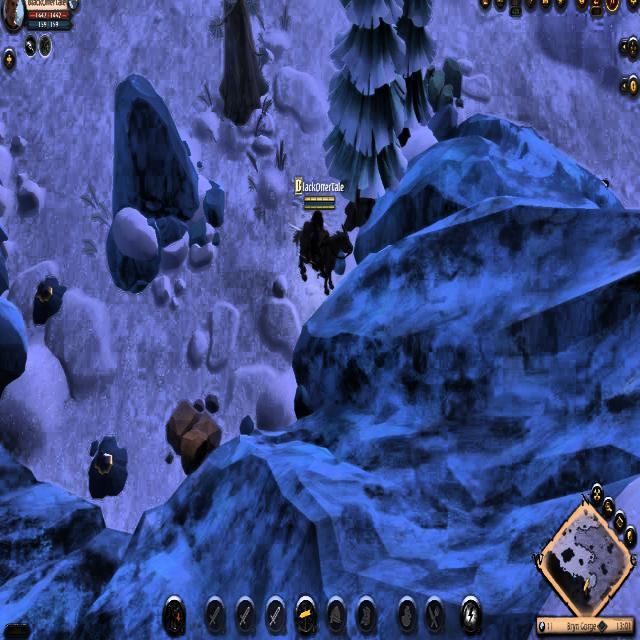copperore: (87, 437, 130, 495), (30, 272, 65, 324)
limestone: (162, 396, 224, 474)
sandstone: (422, 50, 463, 116)
